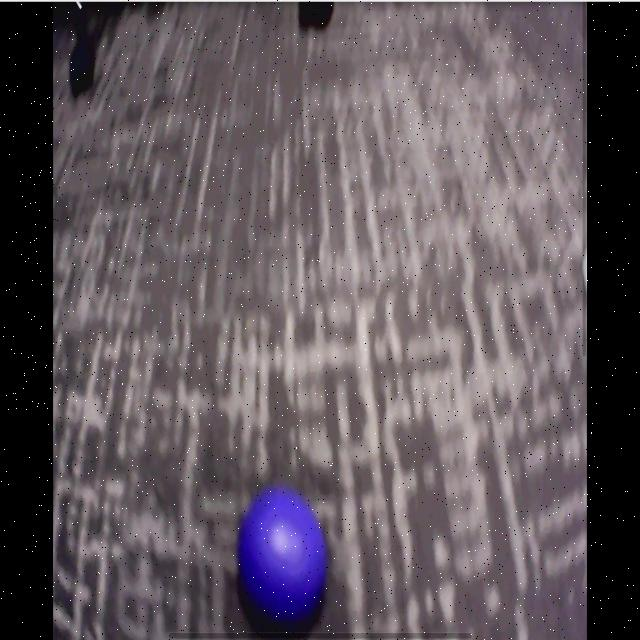ball: (239, 493, 327, 624)
